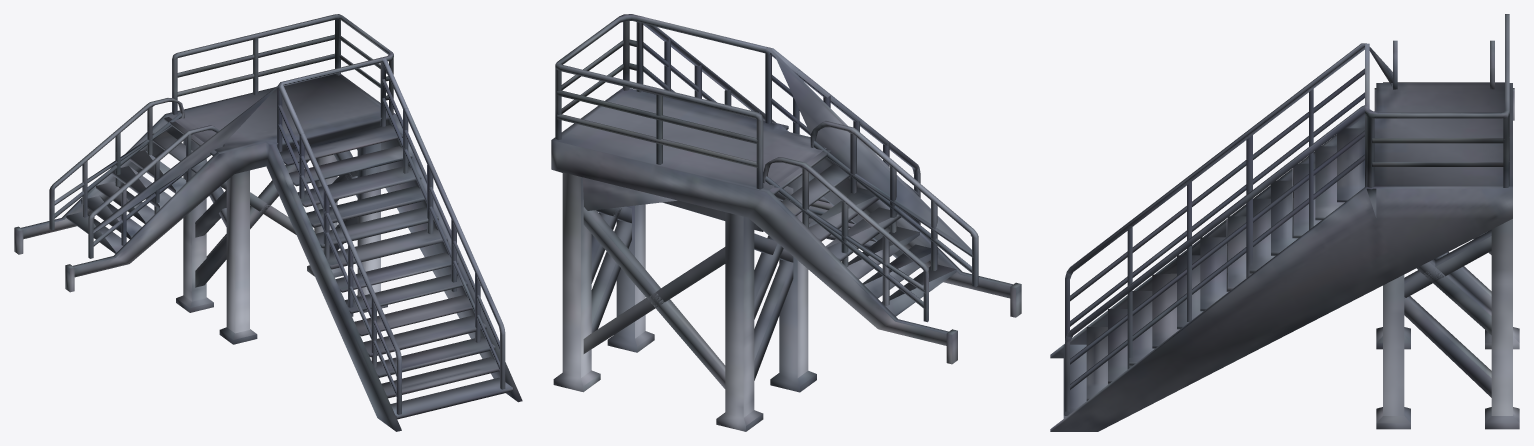
Rendered from 整備庫_22_登艦梯.glb.
3 views of the same model, side by side, from view 1: azimuth 30°, elevation 25°; view 2: azimuth 150°, elevation 25°; view 3: azimuth 270°, elevation 25° (orthographic). The views are drawn at different scales.
Visible parts, largest first — view 1: 22_登艦梯; view 2: 22_登艦梯; view 3: 22_登艦梯.
Part boxes in pixels (x1,y1,x2,y2): 22_登艦梯: (14, 14, 522, 431); 22_登艦梯: (551, 14, 1021, 431); 22_登艦梯: (1050, 14, 1519, 431).
Bounding box in the file's own units: 0.1387 × 0.104 × 0.1392.
1 material, 1 textured.
